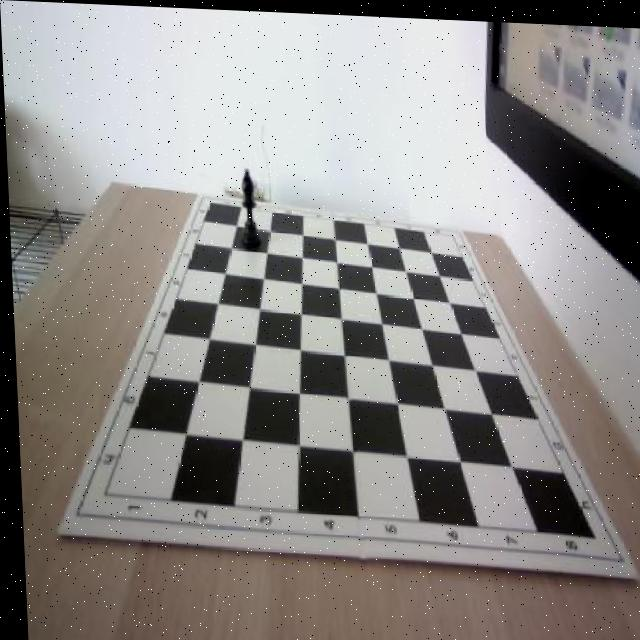bishop: (234, 165, 258, 247)
